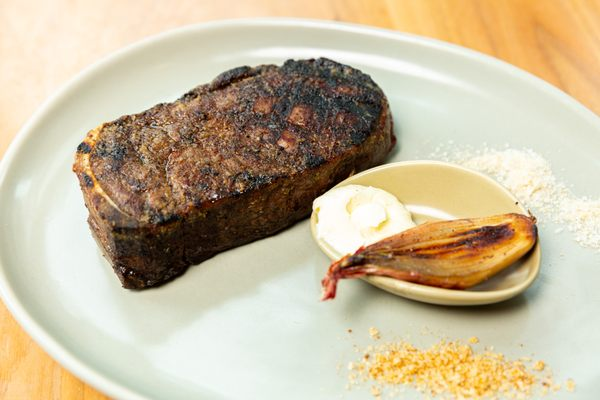pasta: (320, 210, 539, 299)
